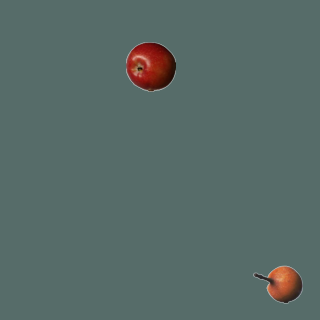Apple Braeburn: (125, 41, 175, 91)
Granadilla: (252, 259, 302, 309)
